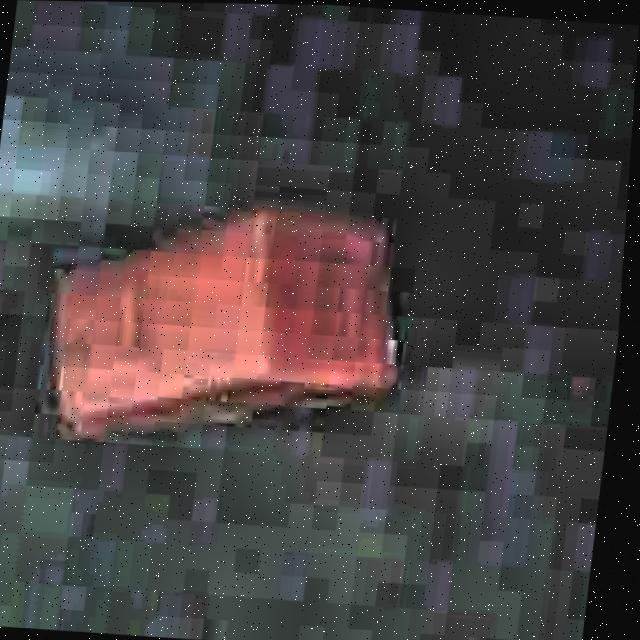bus: (29, 191, 421, 464)
